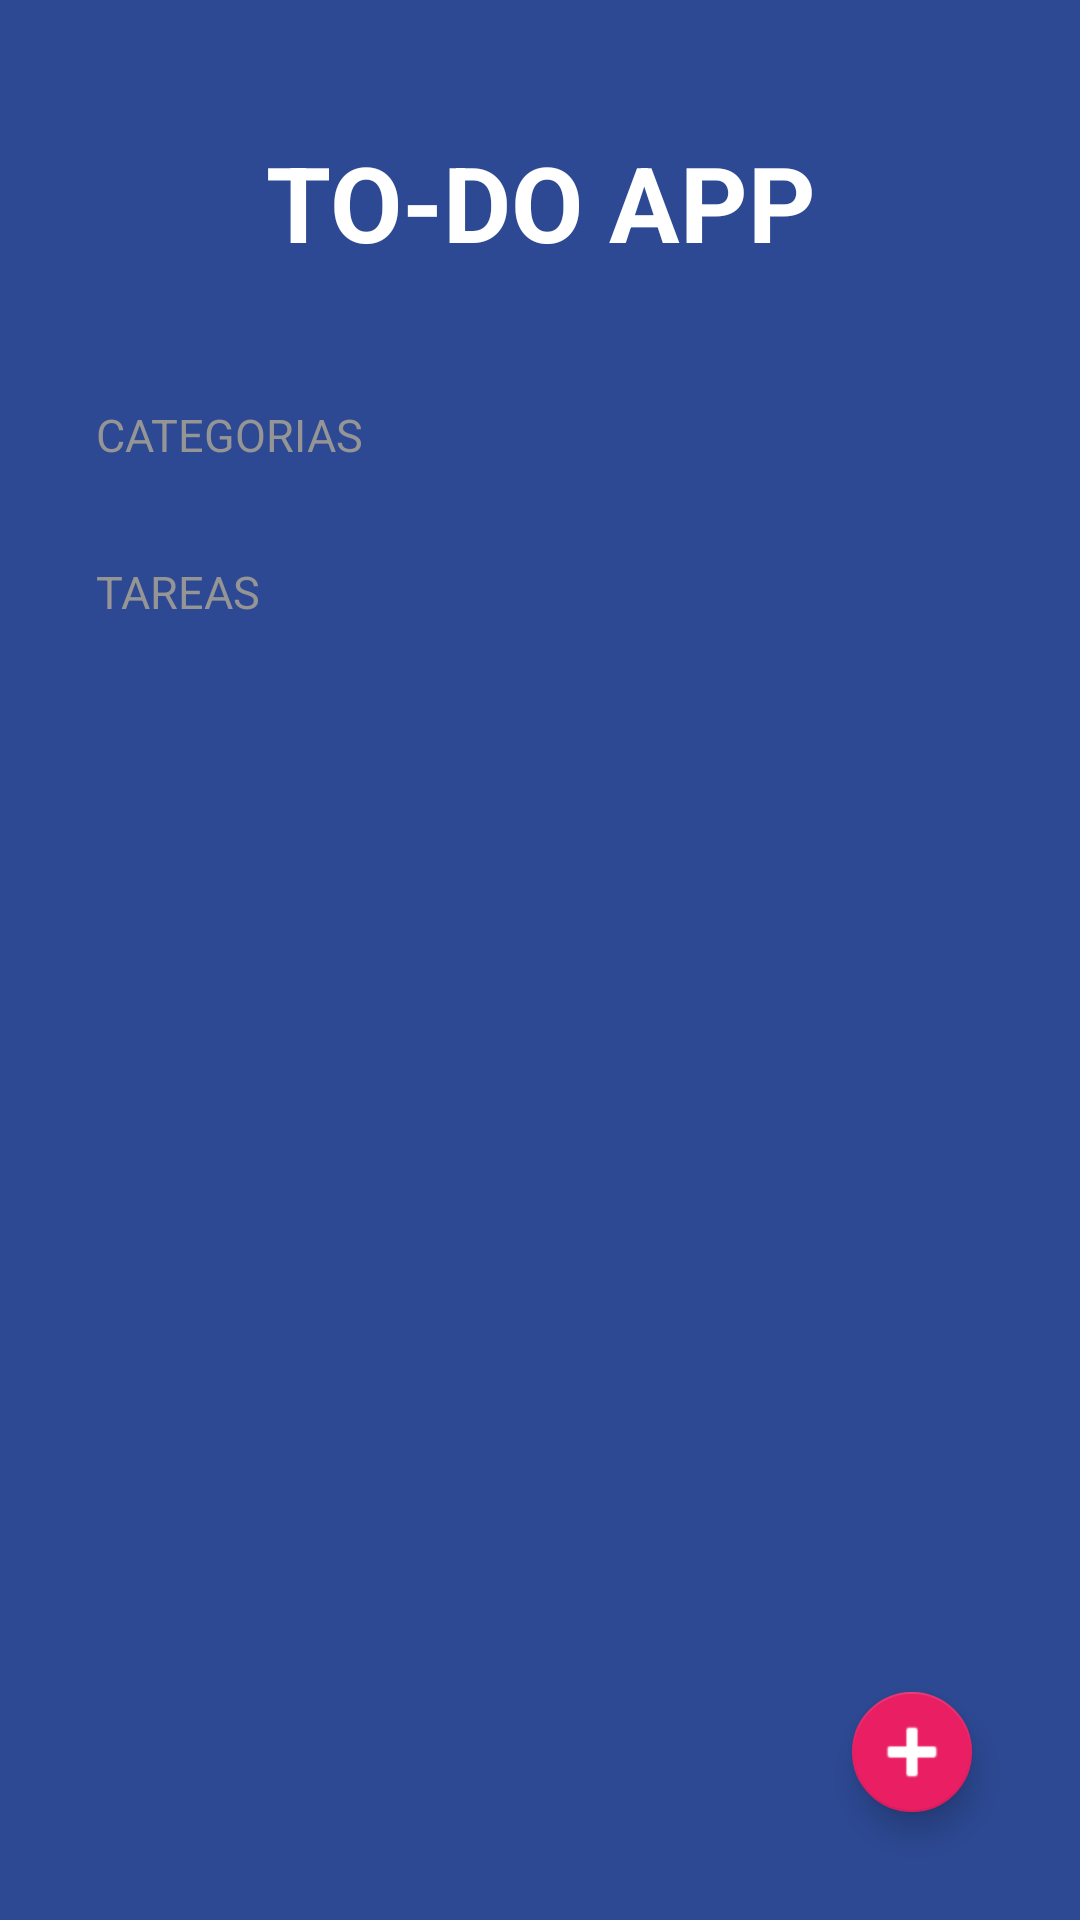

Screen size 1080 x 1920. Icon name, then its center in pixels as (x=x, y=y):
add: (x=912, y=1754)
